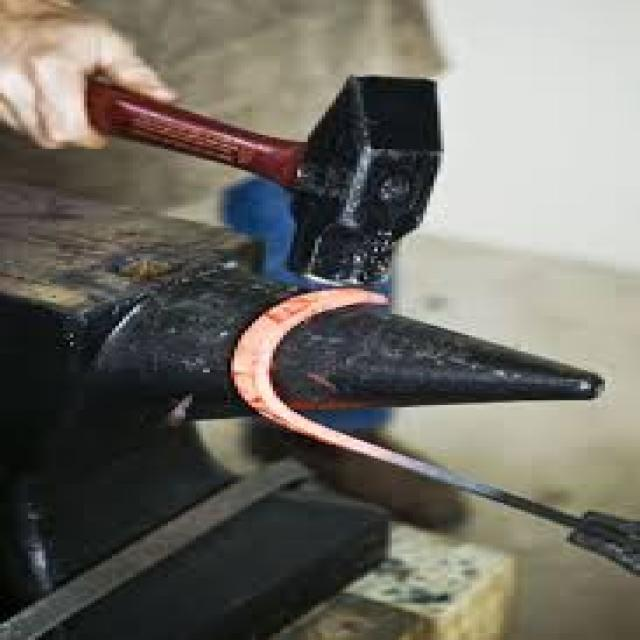hammer: (49, 66, 483, 274)
